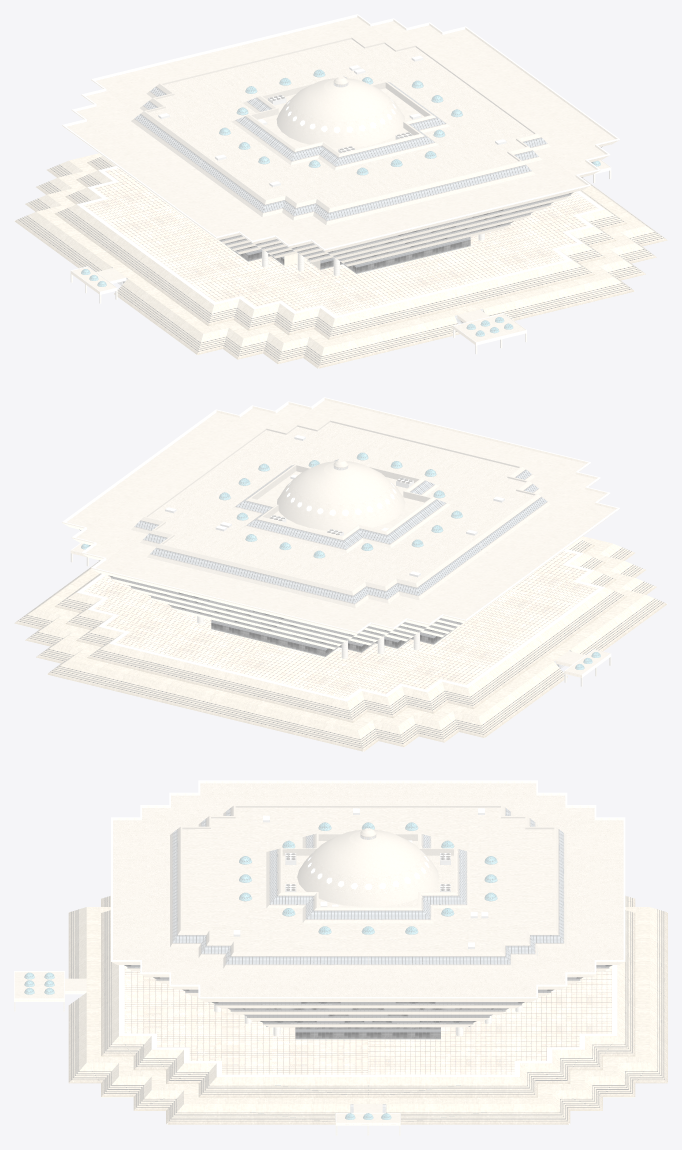
File: riyadhinterior.FBX
3 renders of one model, top to bottom at view 1: azimuth 30°, elevation 25°; view 2: azimuth 150°, elevation 25°; view 3: azimuth 270°, elevation 25°, orthographic. The views are drawn at different scales.
Visible parts, largest first — view 1: Plane001; view 2: Plane001; view 3: Plane001.
Part boxes in pixels (x1,y1,x2,y2): Plane001: (14,14,667,368); Plane001: (14,397,667,751); Plane001: (14,780,667,1135).
Size of the model in its own units: 18035 by 5147 by 18111.
Materials: 1 (1 with a texture image).
